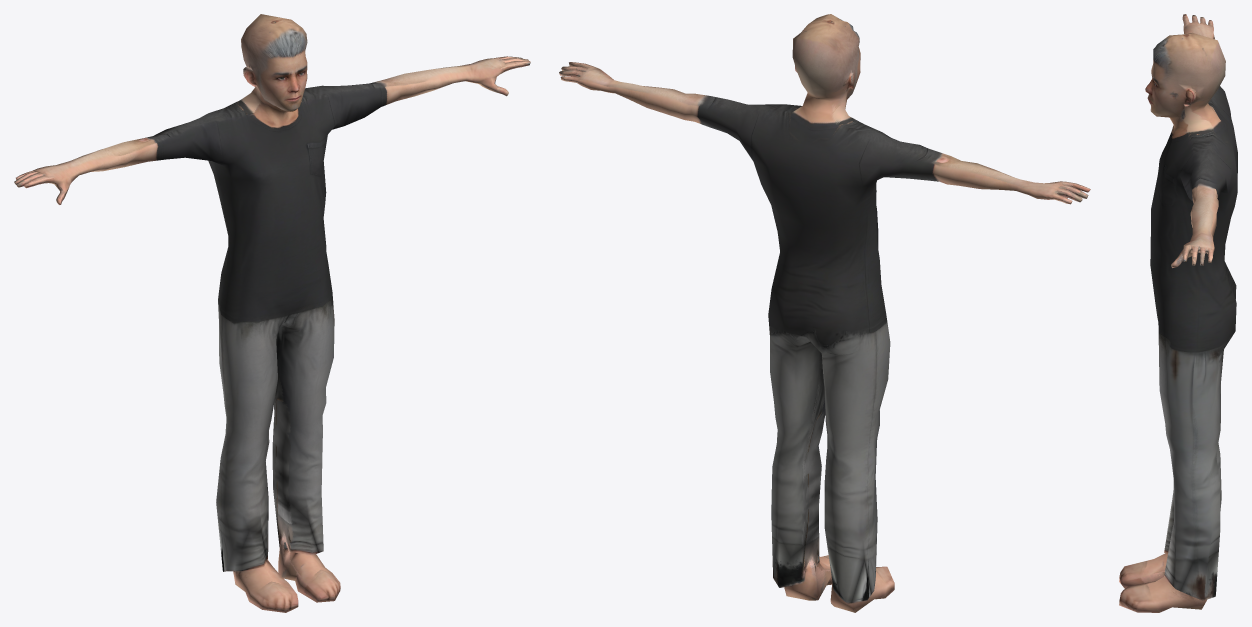
File: _0803050125_texture.fbx
3 renders of one model, left to right at view 1: azimuth 30°, elevation 25°; view 2: azimuth 150°, elevation 25°; view 3: azimuth 270°, elevation 25°, orthographic. The views are drawn at different scales.
Parts seen in each view (by area): view 1: Mesh_0; view 2: Mesh_0; view 3: Mesh_0.
Boxes of the visible parts, x1,y1,x2,y2 form: Mesh_0: [14, 14, 530, 612]; Mesh_0: [559, 14, 1090, 612]; Mesh_0: [1119, 14, 1237, 612].
Bounding box in the file's own units: 190 × 200 × 38.53.
1 material, 1 textured.
